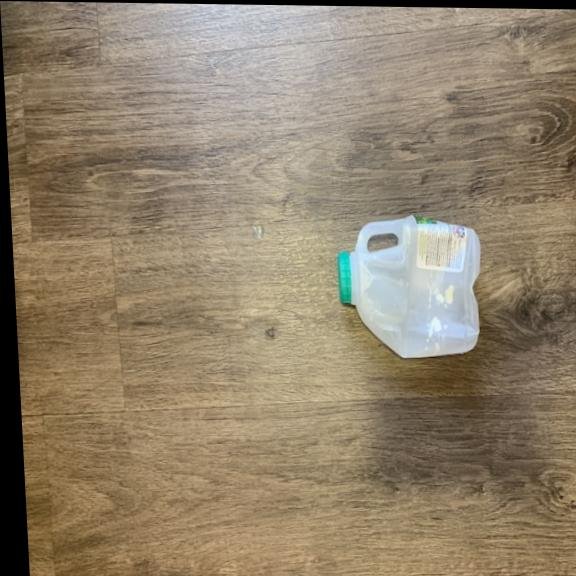Plastik: (329, 203, 491, 360)
